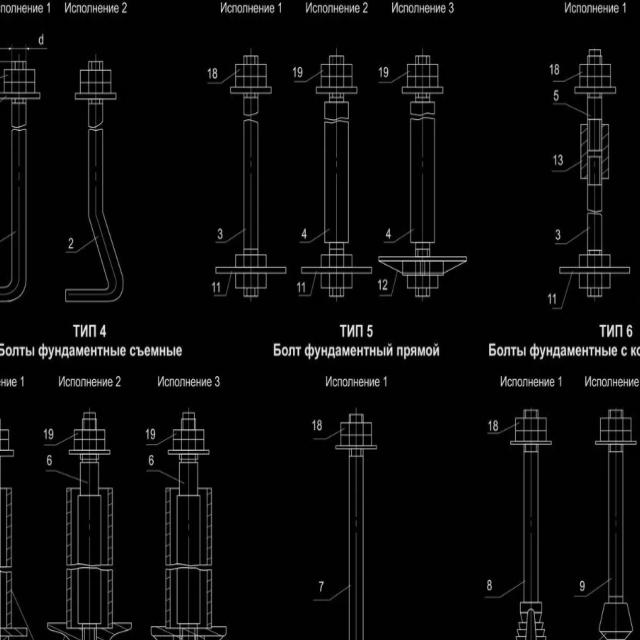marking_line: (1, 47, 48, 52)
numeric: (552, 153, 565, 169), (378, 276, 390, 293), (295, 278, 308, 293), (207, 66, 220, 80), (488, 417, 500, 432), (311, 420, 325, 432), (42, 428, 56, 440), (550, 63, 561, 77), (211, 279, 221, 294), (548, 290, 558, 305), (299, 227, 308, 242), (384, 226, 393, 241), (146, 427, 156, 440), (317, 578, 325, 594), (115, 374, 123, 390), (214, 374, 222, 390), (485, 578, 494, 591), (578, 578, 586, 592), (19, 375, 27, 389), (67, 235, 74, 250), (552, 89, 560, 102), (554, 228, 562, 241), (147, 454, 155, 467), (45, 455, 53, 467), (217, 226, 224, 239)
special_symbol: (147, 468, 176, 482), (47, 467, 76, 479), (553, 101, 577, 114), (571, 590, 596, 602), (44, 440, 67, 452), (145, 438, 167, 450), (314, 594, 335, 605), (313, 434, 336, 444), (292, 76, 314, 85), (214, 290, 232, 300), (379, 289, 397, 299), (206, 78, 227, 86), (215, 237, 233, 246), (67, 247, 83, 257), (379, 76, 399, 84), (383, 237, 403, 245), (300, 238, 315, 248), (484, 594, 505, 601), (553, 76, 572, 83), (297, 292, 313, 299), (553, 240, 571, 246), (487, 431, 502, 438), (549, 305, 566, 311), (550, 169, 570, 174)
